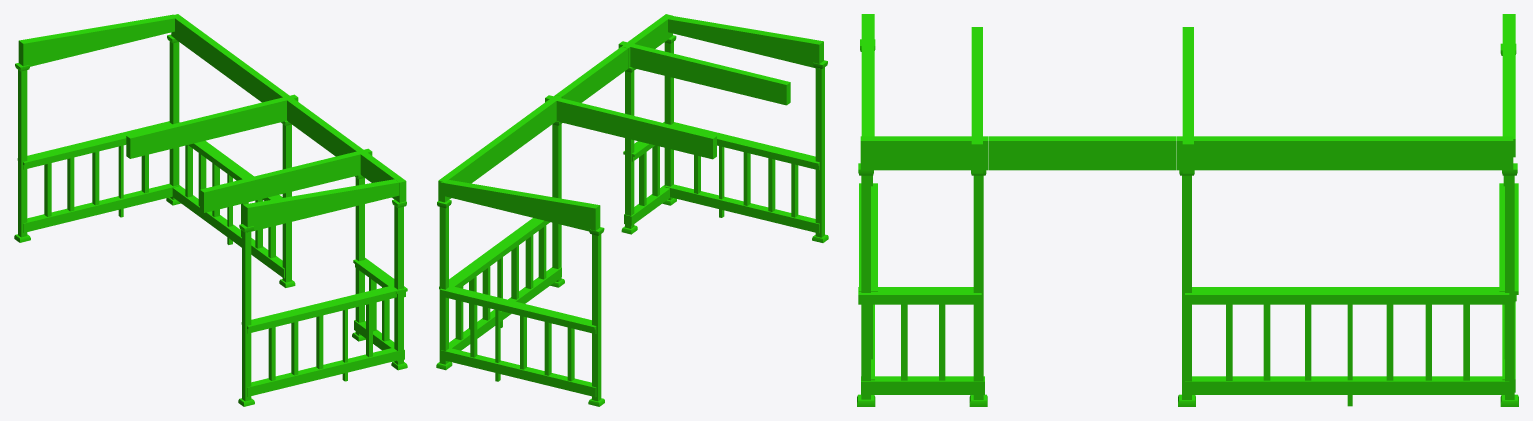
The model's file is Front_02_D.fbx.
The picture shows the model from 3 angles, left to right: view 1: azimuth 30°, elevation 25°; view 2: azimuth 150°, elevation 25°; view 3: azimuth 270°, elevation 25°; orthographic projection. The views are drawn at different scales.
Parts seen in each view (by area): view 1: Front_02_D; view 2: Front_02_D; view 3: Front_02_D.
Part boxes in pixels (x1,y1,x2,y2): Front_02_D: (14, 14, 407, 406); Front_02_D: (436, 14, 828, 406); Front_02_D: (857, 14, 1518, 406).
Bounding box in the file's own units: 257 × 290 × 613.
